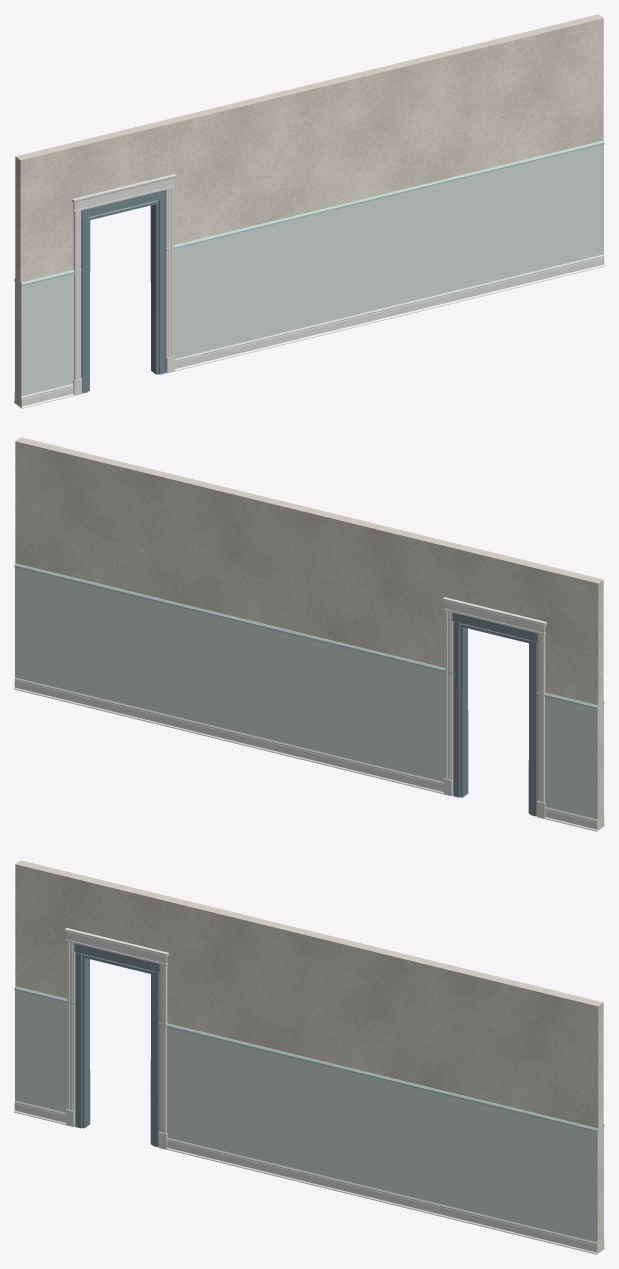
Rendered from partition.glb.
3 views of the same model, one above another, from view 1: azimuth 30°, elevation 25°; view 2: azimuth 150°, elevation 25°; view 3: azimuth 330°, elevation 25° (orthographic).
Visible parts, largest first — view 1: partition_plaster, partition_tile_w, molduras, partition_frame, partition_tile_c; view 2: partition_plaster, partition_tile_w, molduras, partition_frame, partition_tile_c; view 3: partition_plaster, partition_tile_w, molduras, partition_frame, partition_tile_c.
Boxes of the visible parts, x1,y1,x2,y2 form: partition_plaster: (15,14,603,407); partition_tile_w: (15,144,603,396); molduras: (14,174,604,408); partition_frame: (81,189,166,393); partition_tile_c: (14,140,604,398); partition_plaster: (15,437,603,830); partition_tile_w: (15,567,603,819); molduras: (14,597,604,831); partition_frame: (452,612,537,816); partition_tile_c: (14,563,604,821); partition_plaster: (15,860,603,1253); partition_tile_w: (15,990,603,1242); molduras: (14,928,604,1254); partition_frame: (74,943,159,1147); partition_tile_c: (14,986,604,1244).
Size of the model in its own units: 7.4 by 3 by 0.204.
5 materials, 1 textured.
